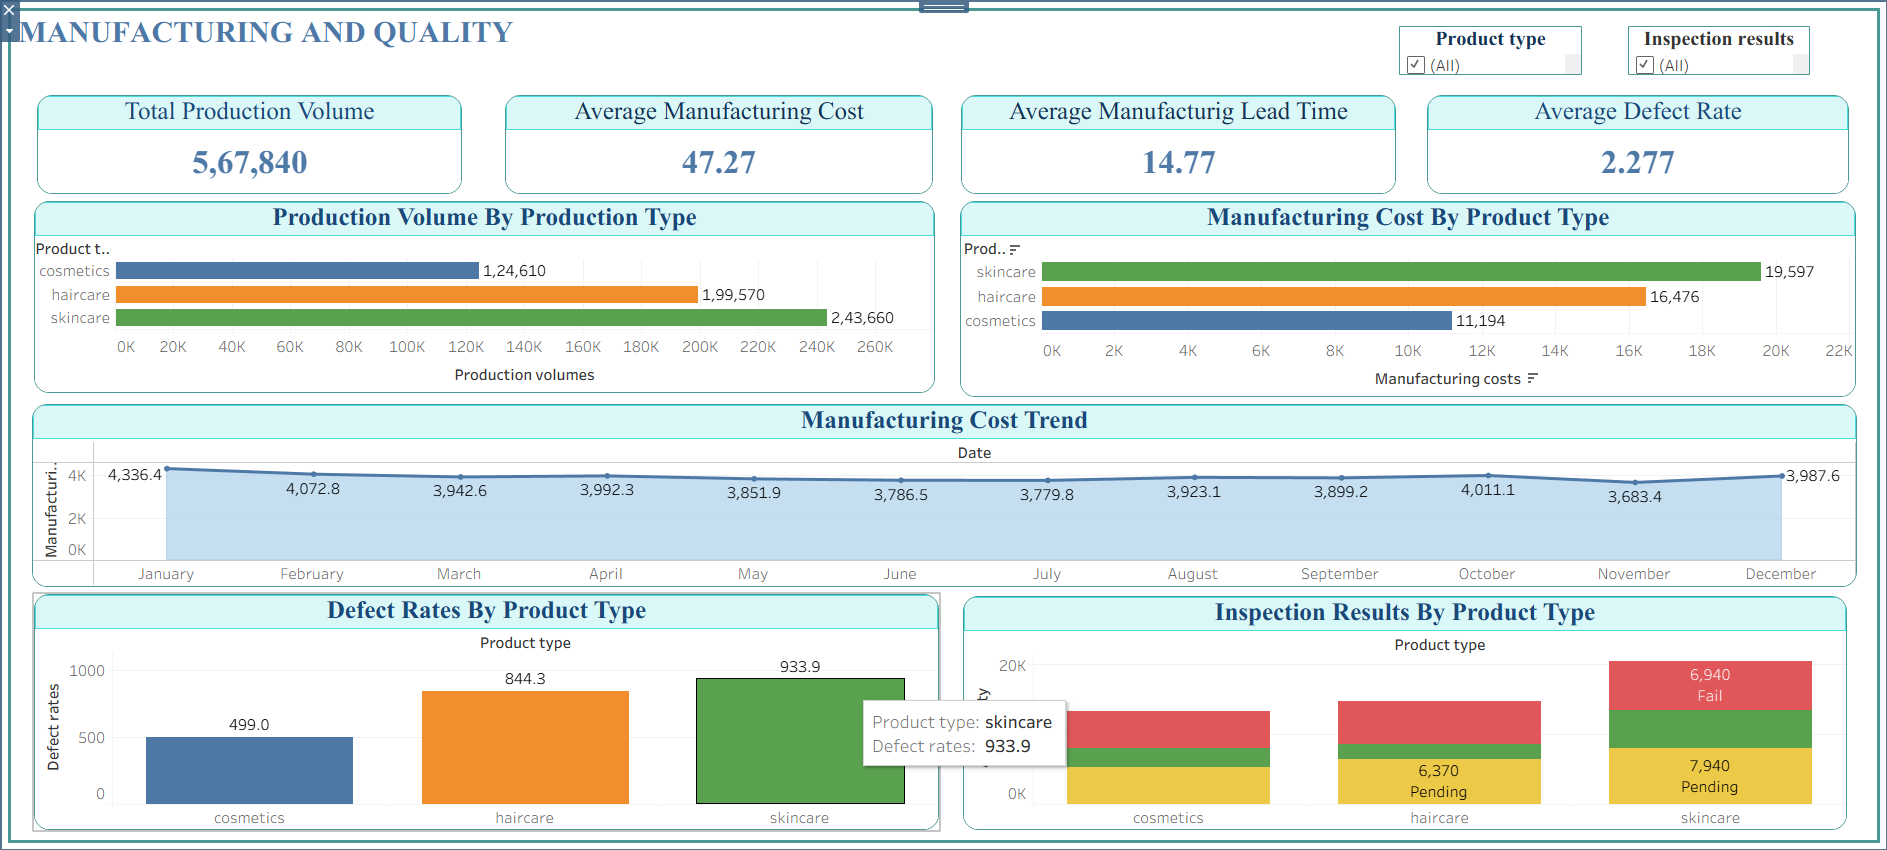

Layout of this report page (visuals, bound fields, positions):
{"tool":"tableau","page":{"name":"Manufacturing & Quality","canvas":[1000,1000],"units":"permille","ordinal":1},"visuals":[{"type":"title","box":[5.8,12.9,988.3,49.4]},{"type":"filter","title":"Production Volume By Production Type","param":"[federated.02h5oi51cr7syl1cryxu90dtj5b1].[none:Product type:nk]","box":[741.2,30.6,96.7,57.6]},{"type":"filter","title":"Inspection Results By Product Type","param":"[federated.02h5oi51cr7syl1cryxu90dtj5b1].[none:Inspection results:nk]","box":[862.3,30.6,96.4,57.6]},{"type":"worksheet","title":"Total Production Volume","mark":"Automatic","box":[19.6,111.6,225.1,116.3]},{"type":"worksheet","title":"Average Manufacturing Cost","mark":"Automatic","box":[267.5,111.6,226.7,116.3]},{"type":"worksheet","title":"Average Manufacturing Lead Time","mark":"Automatic","box":[508.8,111.6,230.5,116.3]},{"type":"worksheet","title":"Average Defect Rate","mark":"Automatic","box":[755.8,111.6,223.5,116.3]},{"type":"worksheet","title":"Production Volume By Production Type","mark":"Automatic","rows":["Product type"],"cols":["Production volumes"],"box":[18.1,236.2,477,225.6]},{"type":"worksheet","title":"Manufacturing Cost By Product Type","mark":"Automatic","rows":["Product type"],"cols":["Manufacturing costs"],"box":[508.5,236.2,474.6,230.3]},{"type":"worksheet","title":"Manufacturing Cost Trend","mark":"Automatic","rows":["Manufacturing costs","Manufacturing costs"],"cols":["Date"],"box":[16.9,474.7,966.8,215]},{"type":"worksheet","title":"Defect Rates By Product Type","mark":"Automatic","rows":["Defect rates"],"cols":["Product type"],"box":[18.1,698,479.4,277.3]},{"type":"worksheet","title":"Inspection Results By Product Type","mark":"Automatic","rows":["Availability"],"cols":["Product type"],"box":[510.3,700.4,468,275]}]}

Visuals, with their boxes on the dashboard's canvas, which has no fixed pixel size, in thousandths of its width and height (x1, y1, x2, y2). These are canvas units, not pixel positions in the 1887x850 screenshot, which may show the page scaled, cropped or inside an application window:
title: (left=6, top=13, right=994, bottom=62)
"Production Volume By Production Type" filter: (left=741, top=31, right=838, bottom=88)
"Inspection Results By Product Type" filter: (left=862, top=31, right=959, bottom=88)
"Total Production Volume" worksheet: (left=20, top=112, right=245, bottom=228)
"Average Manufacturing Cost" worksheet: (left=268, top=112, right=494, bottom=228)
"Average Manufacturing Lead Time" worksheet: (left=509, top=112, right=739, bottom=228)
"Average Defect Rate" worksheet: (left=756, top=112, right=979, bottom=228)
"Production Volume By Production Type" worksheet: (left=18, top=236, right=495, bottom=462)
"Manufacturing Cost By Product Type" worksheet: (left=508, top=236, right=983, bottom=466)
"Manufacturing Cost Trend" worksheet: (left=17, top=475, right=984, bottom=690)
"Defect Rates By Product Type" worksheet: (left=18, top=698, right=498, bottom=975)
"Inspection Results By Product Type" worksheet: (left=510, top=700, right=978, bottom=975)
